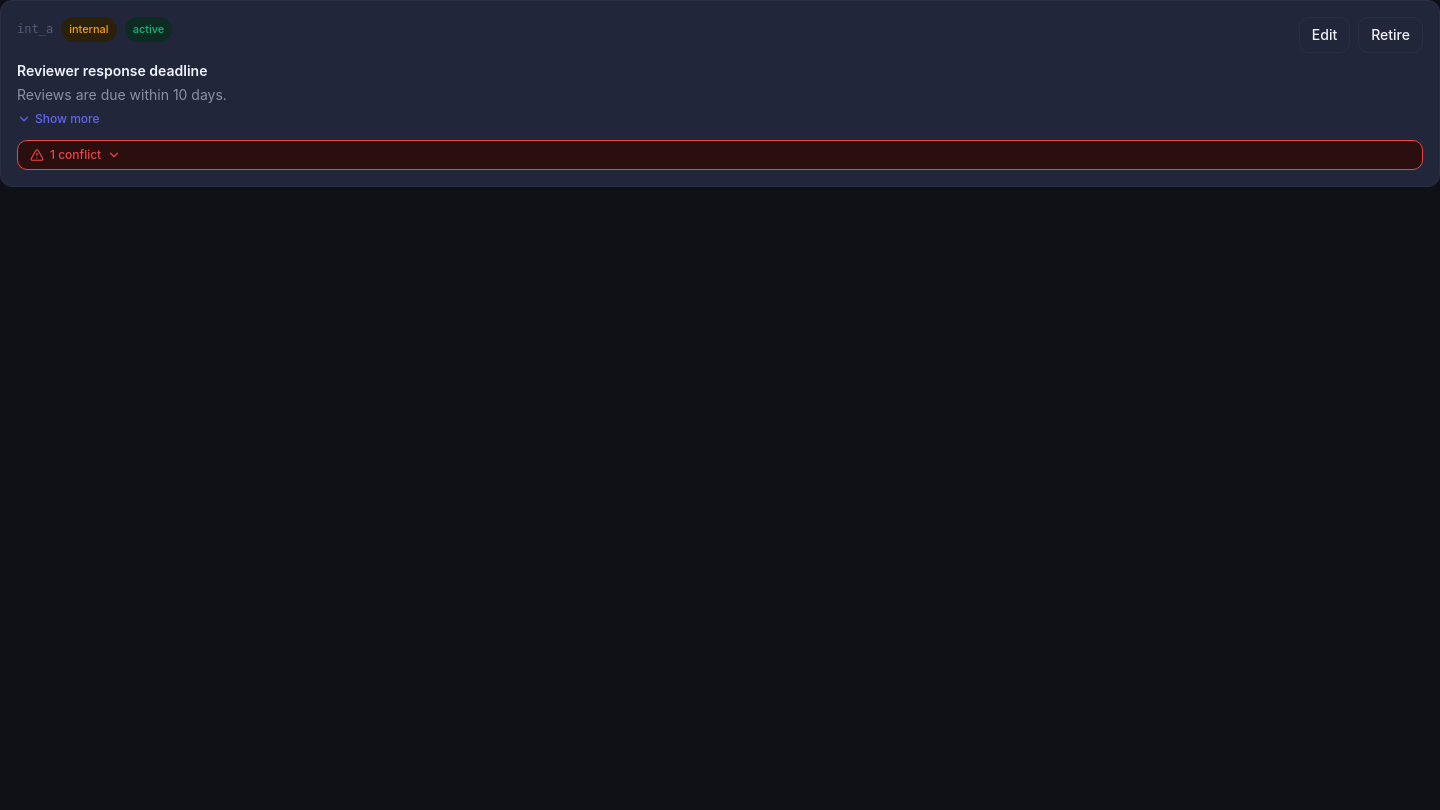
it: PolicyList conflict strip (2e) › highlights the conflicting passage when editing a conflicting policy
Click the button "1 conflict".
click(78, 154)  # box [18,141,1422,169]
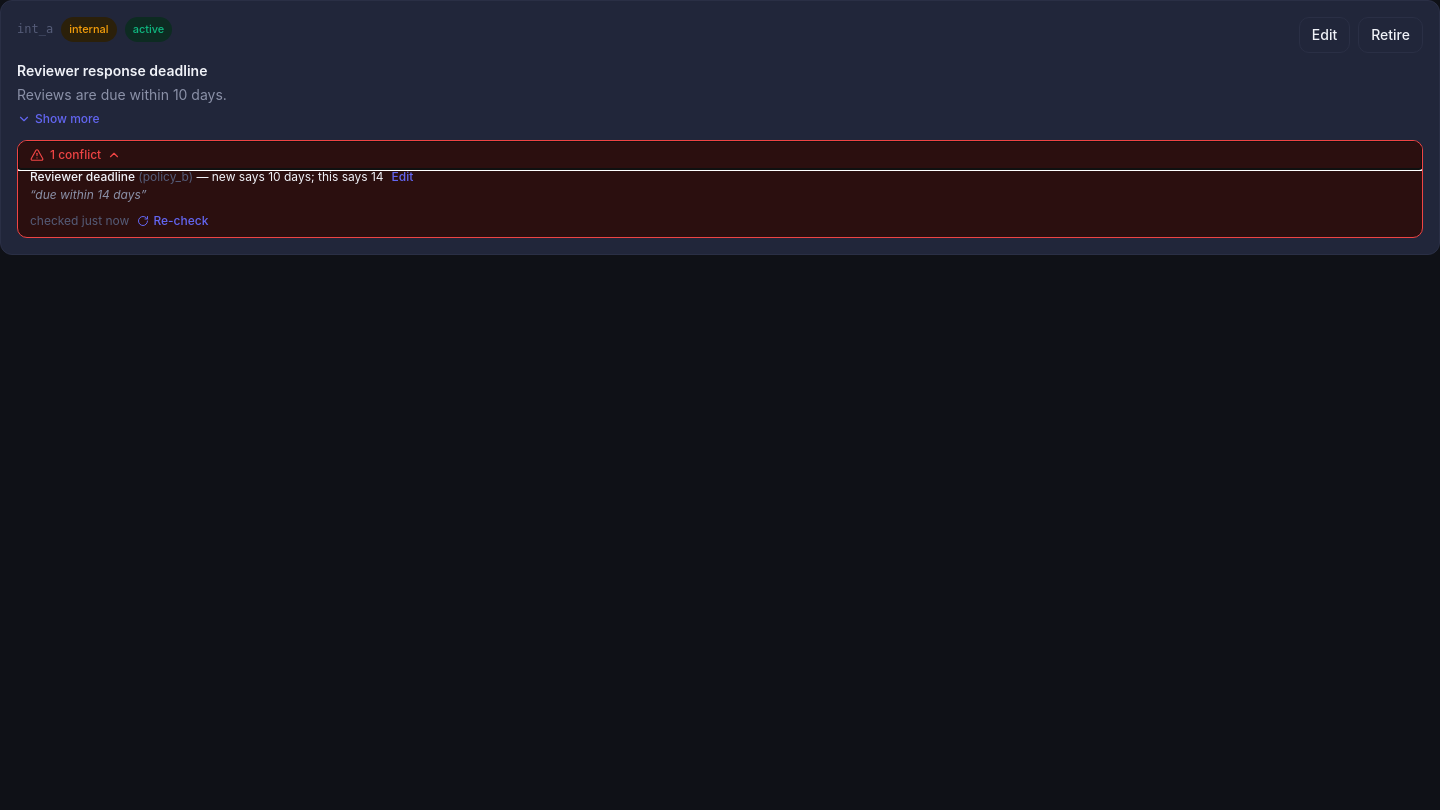
Click the button "Edit" next to "new says 10 days; this says 14".
click(402, 177)  # box [392,169,413,185]
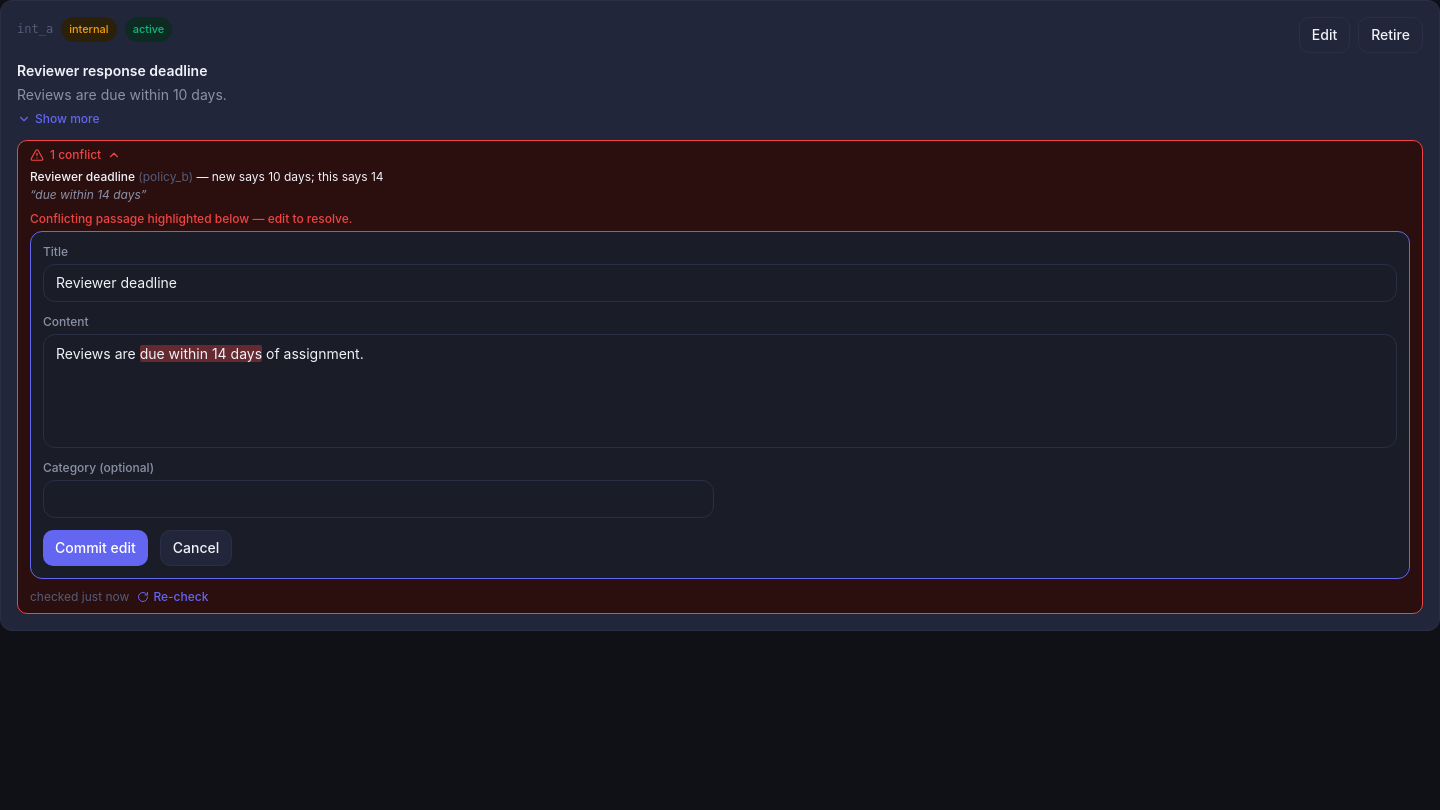
Now the text "Conflicting passage highlighted below — edit to resolve." is shown, box [30,211,352,226]
Now the text "due within 14 days" is shown, box [140,345,262,362]
